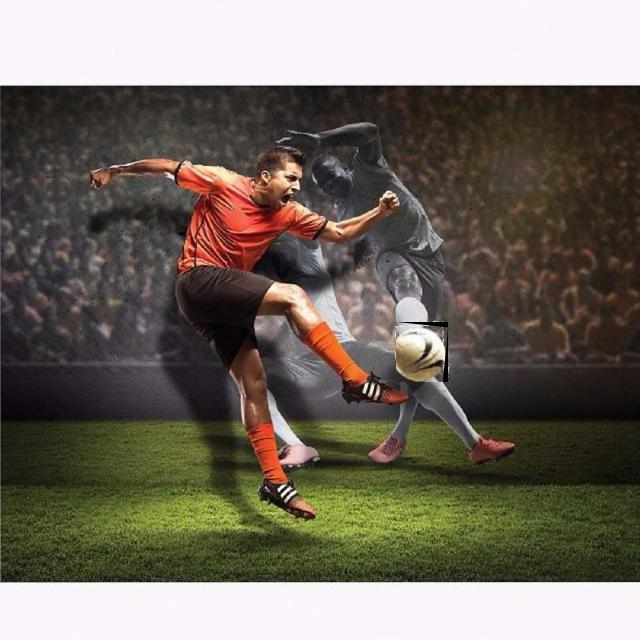Football: (396, 322, 448, 382)
